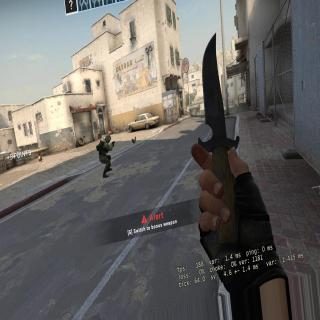CT-Body: (94, 130, 116, 177)
CT-Head: (105, 134, 112, 142)
